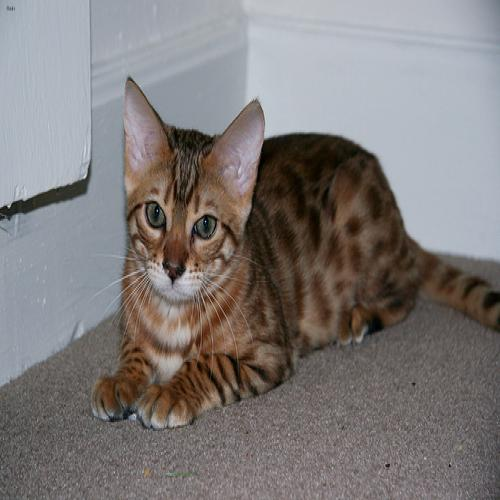bengal: (105, 65, 277, 316)
